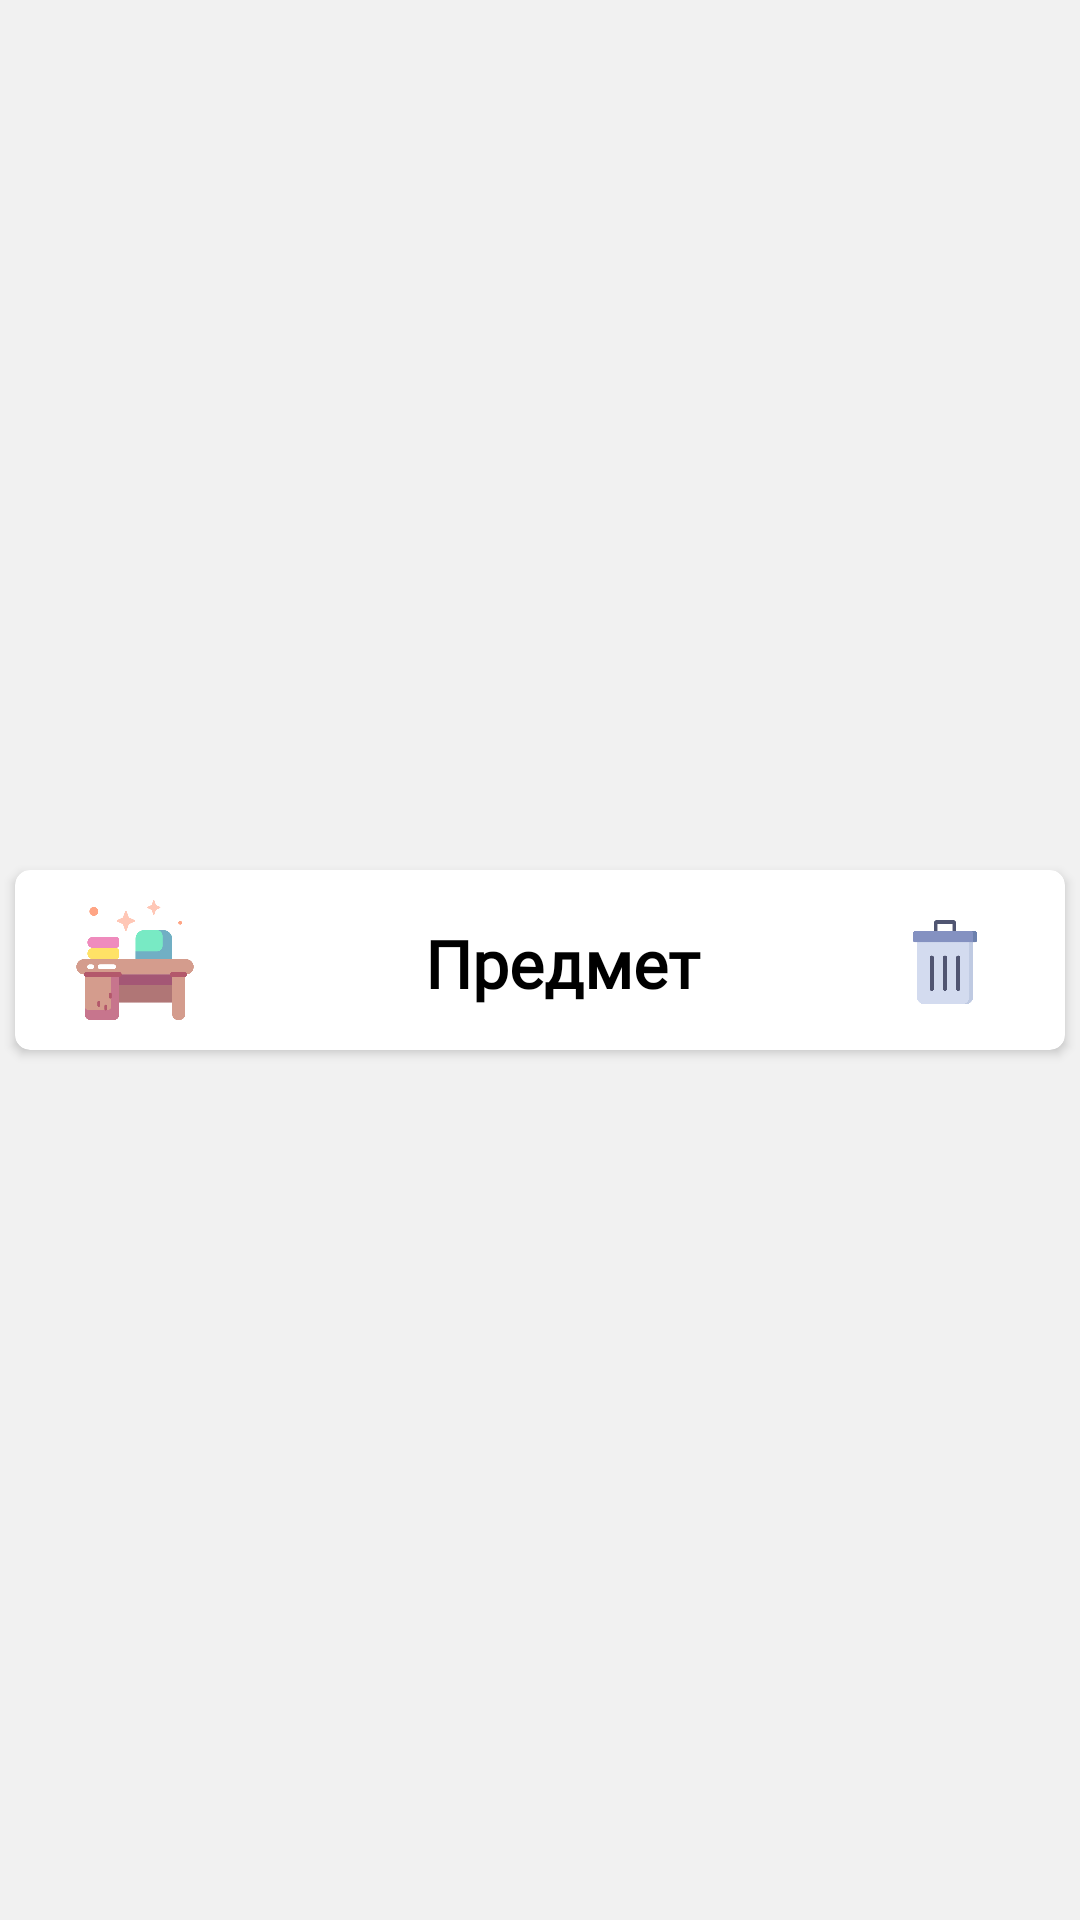

Screen size 1080w x 1920h. Icon name, then its box in pixels as (x1, y1, x2, y2):
del sub: (913, 920, 977, 1004)
